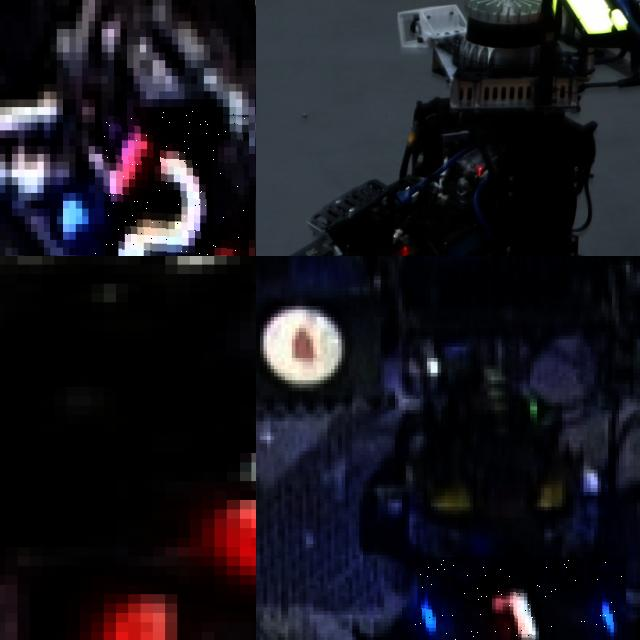B1: (402, 557, 626, 640)
R1: (0, 556, 177, 640), (214, 424, 256, 547)
R2: (95, 107, 248, 256)
